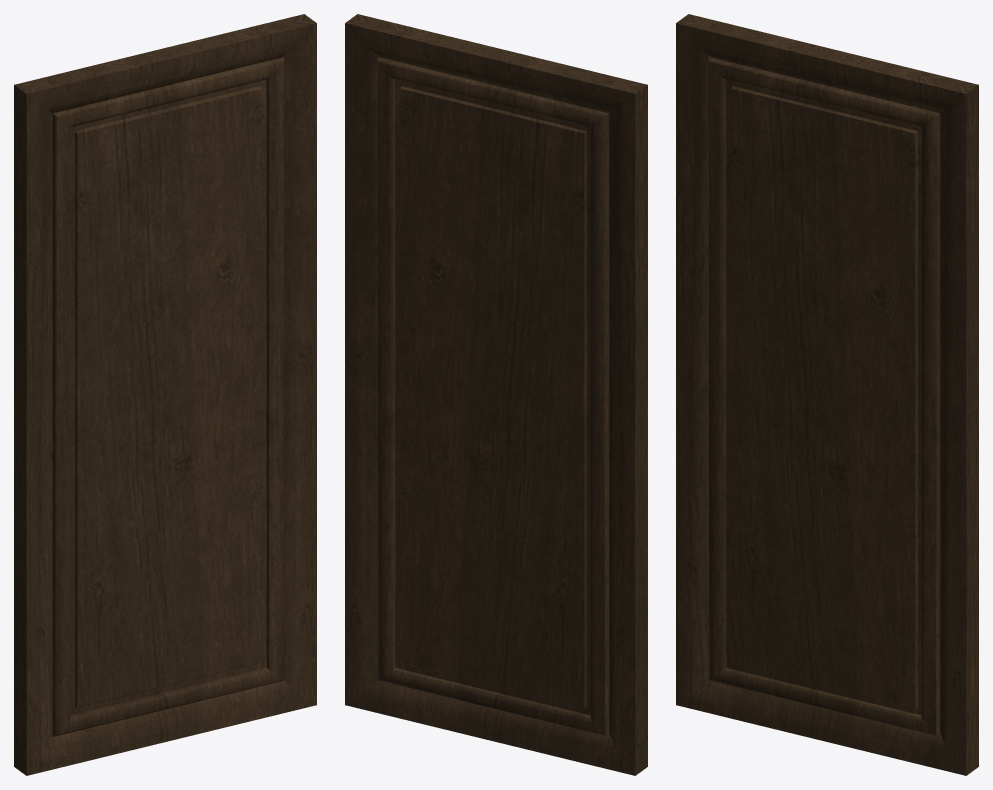
File: KilerKapi 1.fbx
3 views of the same model, side by side, from view 1: azimuth 30°, elevation 25°; view 2: azimuth 150°, elevation 25°; view 3: azimuth 330°, elevation 25° (orthographic).
Visible parts, largest first — view 1: Plane.002; view 2: Plane.002; view 3: Plane.002.
Boxes of the visible parts, box(x1,y1,x2,y2) form: Plane.002: box(14, 14, 316, 775); Plane.002: box(345, 14, 647, 775); Plane.002: box(676, 14, 978, 775).
Bounding box in the file's own units: 80.02 × 180 × 6.
1 material, 1 textured.
